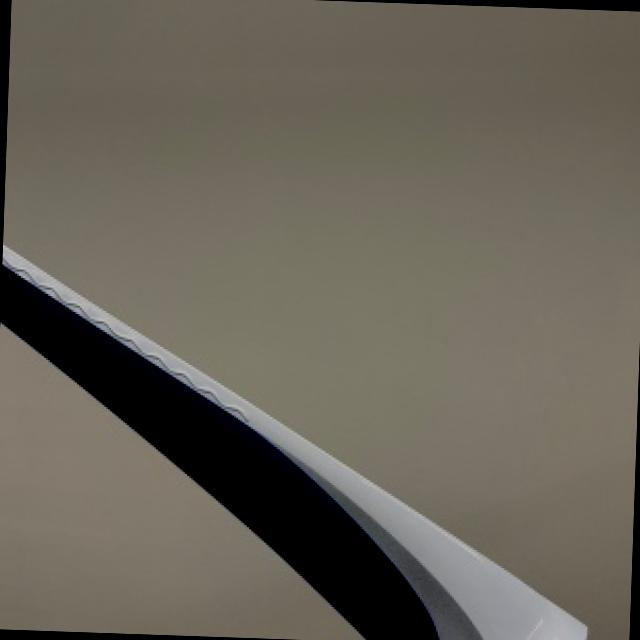healthy: (2, 245, 587, 640), (0, 326, 360, 639)
